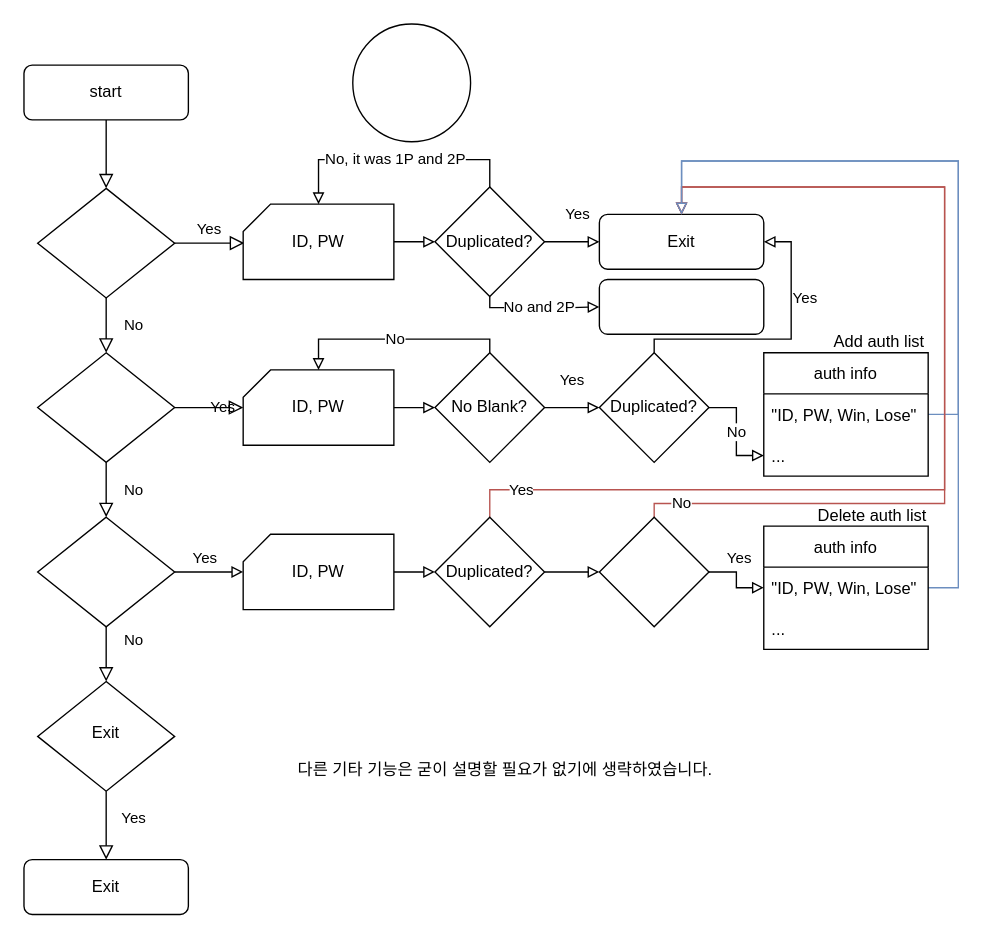
This 993x938 diagram has some shape labels left out. The shapes that lost their labels are listed below. From the top down, each one's centre as x and y in pixels, then its label:
pixel 411 82: P1, P2
pixel 105 242: JOIN
pixel 681 306: Success
pixel 105 406: Sign In
pixel 105 571: Sign Out
pixel 653 571: Is there?
